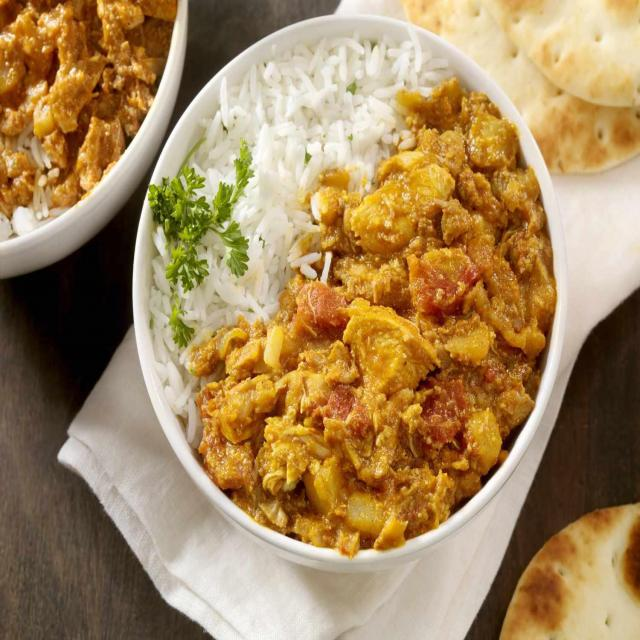chicken: (257, 210, 542, 556), (7, 5, 139, 229)
rice: (154, 39, 439, 375)
roti: (445, 8, 640, 157), (513, 517, 640, 640)
